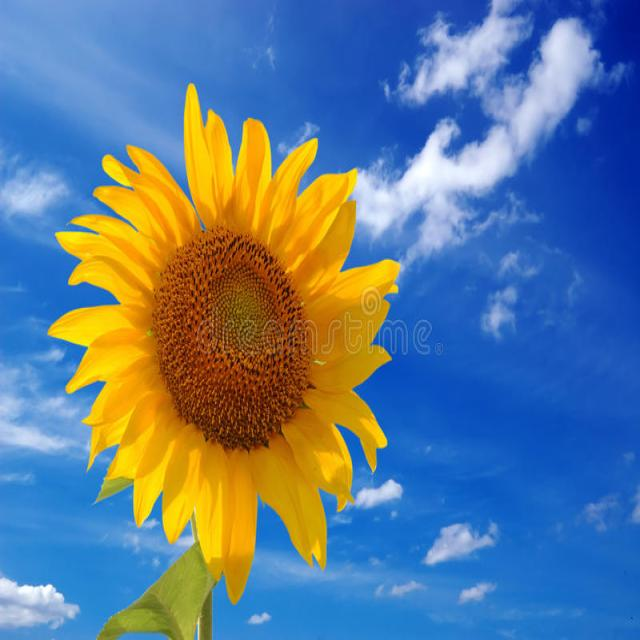sunflower: (46, 100, 417, 575)
